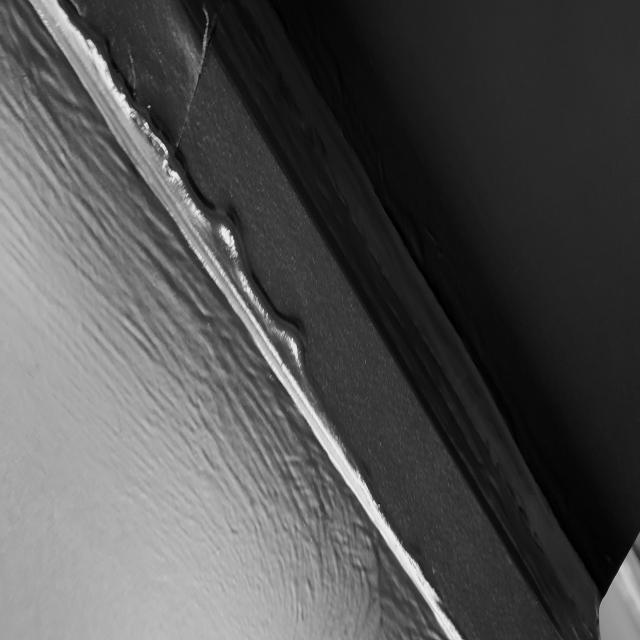paint drips: (42, 0, 388, 517)
